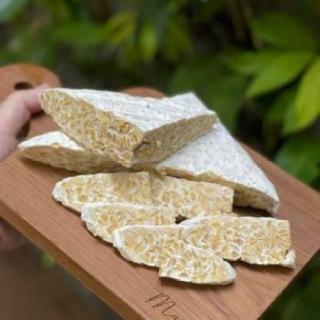Tempe: (17, 87, 300, 288)
